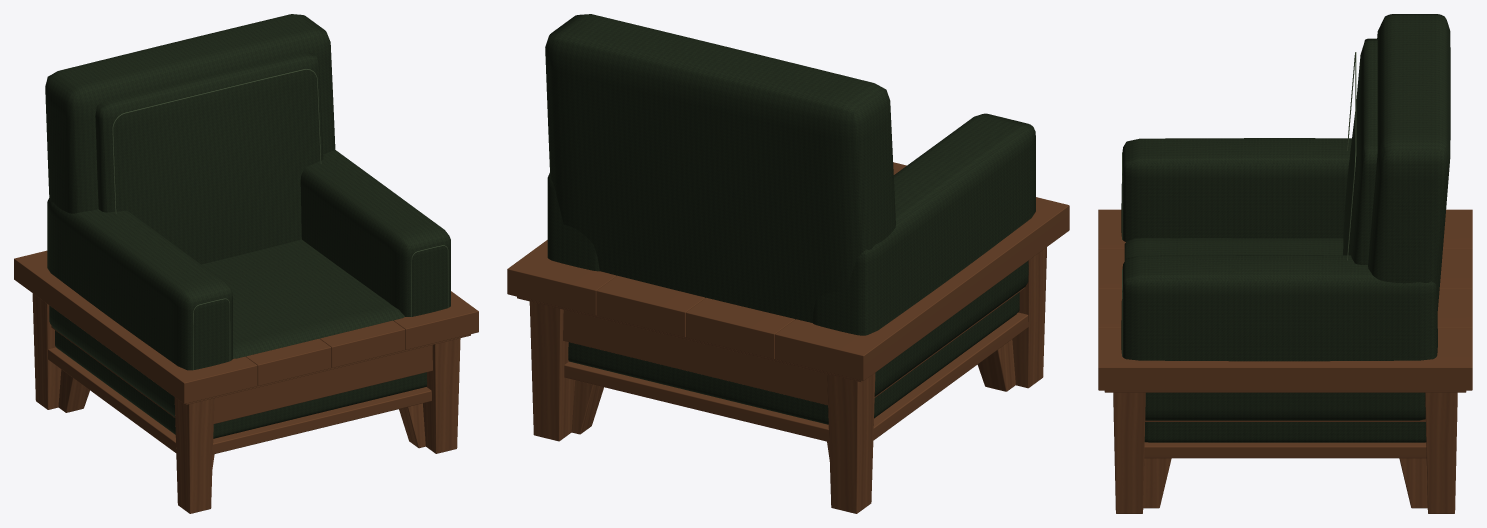
Rendered from mesa-poltrona.glb.
The picture shows the model from 3 angles, left to right: view 1: azimuth 30°, elevation 25°; view 2: azimuth 150°, elevation 25°; view 3: azimuth 270°, elevation 25°; orthographic projection. The views are drawn at different scales.
Visible parts, largest first — view 1: Poltrona - malha refinada, Mesa - malha refinada; view 2: Poltrona - malha refinada, Mesa - malha refinada; view 3: Poltrona - malha refinada, Mesa - malha refinada.
Boxes of the visible parts, x1,y1,x2,y2 form: Poltrona - malha refinada: (45,14,450,468); Mesa - malha refinada: (14,250,478,513); Poltrona - malha refinada: (545,14,1035,458); Mesa - malha refinada: (507,162,1069,513); Poltrona - malha refinada: (1121,14,1450,508); Mesa - malha refinada: (1098,209,1472,513).
Bounding box in the file's own units: 1.02 × 1.1 × 1.02.
6 materials, 3 textured.
